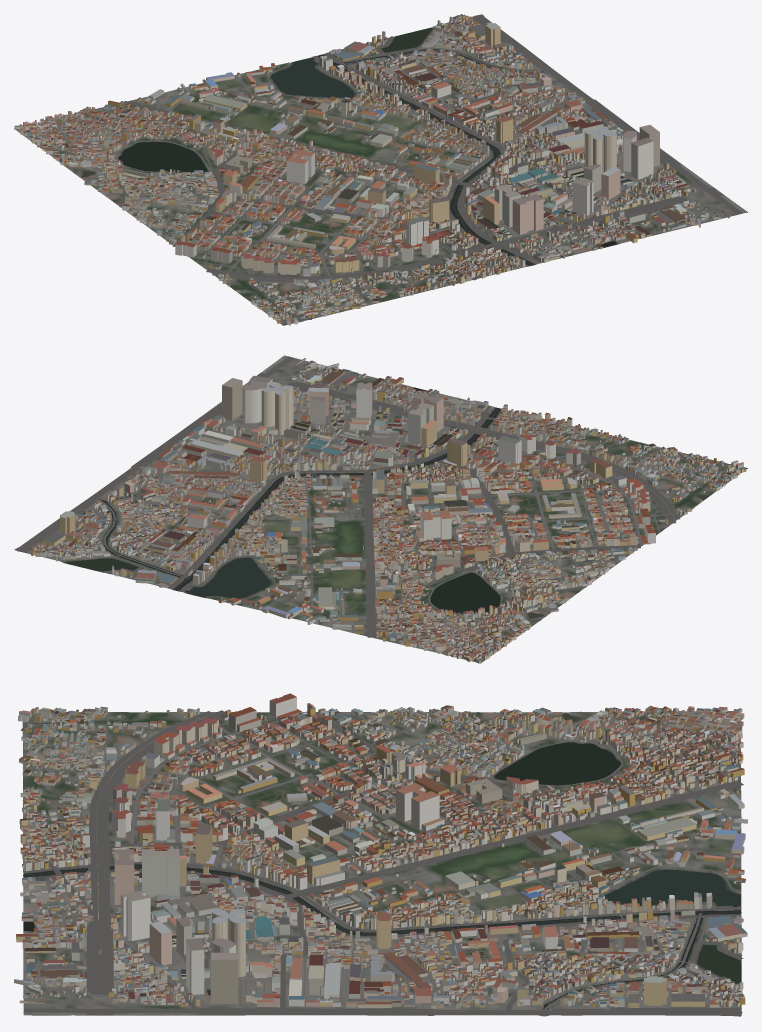
The picture shows the model from 3 angles, top to bottom: view 1: azimuth 30°, elevation 25°; view 2: azimuth 150°, elevation 25°; view 3: azimuth 270°, elevation 25°; orthographic projection. The views are drawn at different scales.
Visible parts, largest first — view 1: buildings, ground, roads, water; view 2: buildings, ground, roads, water; view 3: buildings, ground, roads, water.
Boxes of the visible parts, box(x1,y1,x2,y2) form: buildings: box(14, 14, 729, 325); ground: box(14, 19, 747, 325); roads: box(17, 14, 745, 325); water: box(81, 27, 616, 317); buildings: box(30, 358, 746, 663); ground: box(17, 355, 747, 663); roads: box(14, 356, 747, 662); water: box(65, 387, 729, 617); buildings: box(14, 693, 747, 1008); ground: box(22, 711, 741, 1016); roads: box(20, 710, 743, 1016); water: box(23, 713, 741, 1015).
Size of the model in its own units: 1433 by 121 by 1433.
